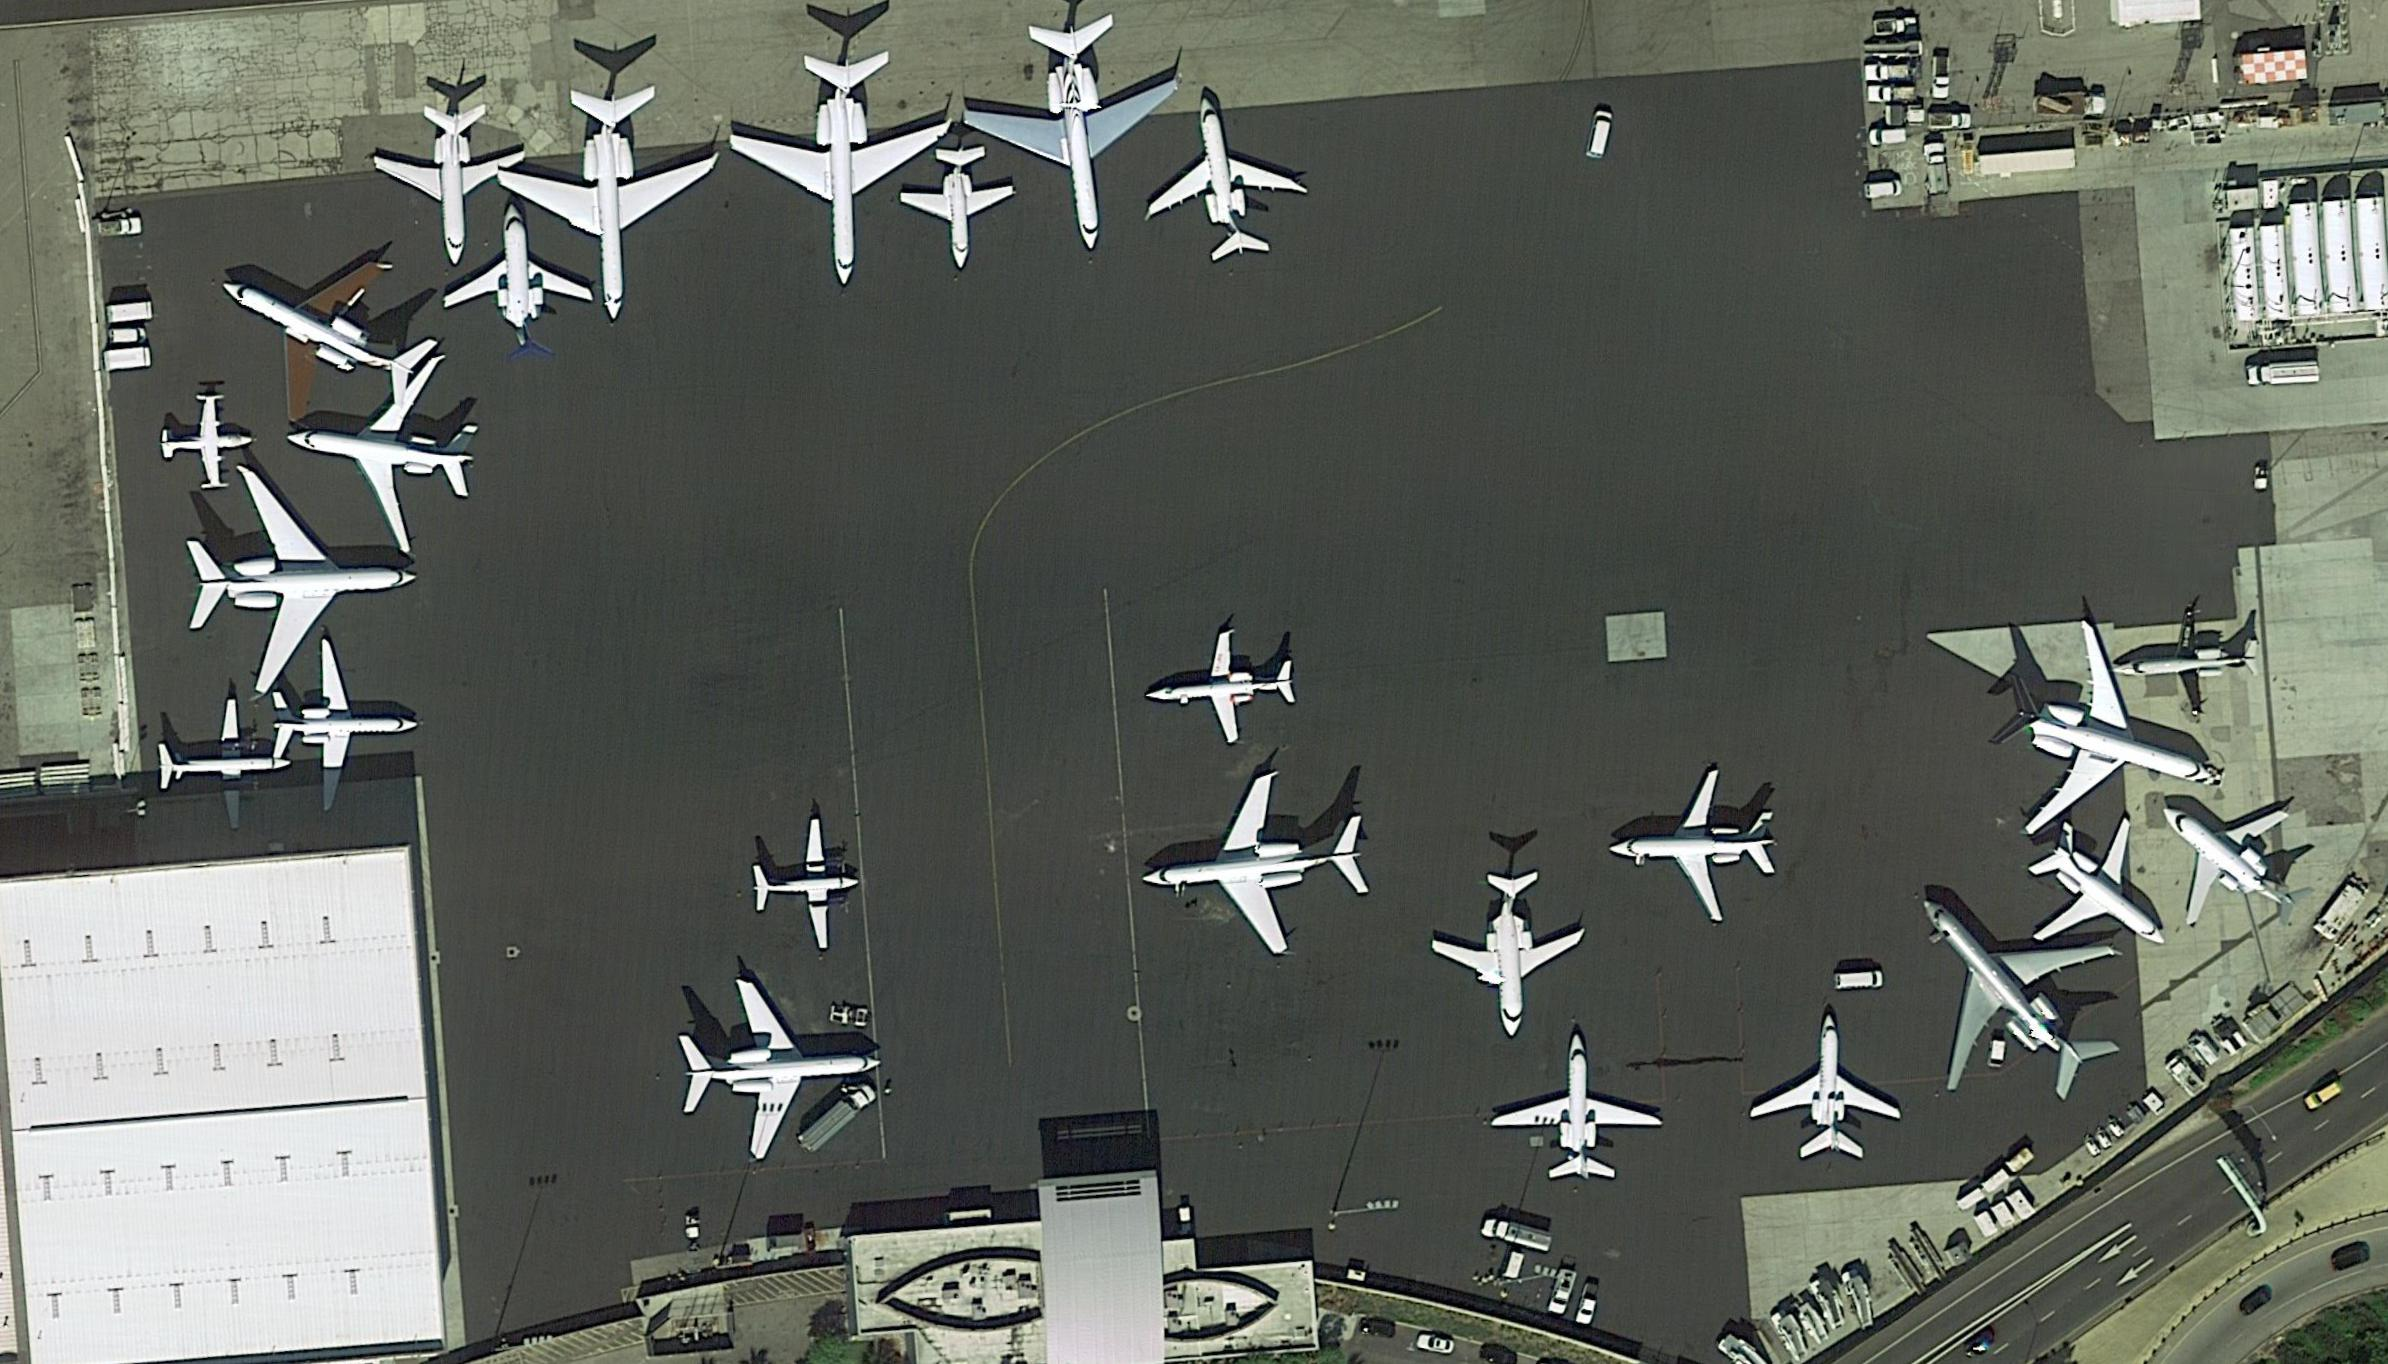plane: (1835, 825, 2167, 1157), (1958, 593, 2263, 890), (243, 302, 523, 607), (940, 2, 1209, 264), (184, 446, 423, 707), (717, 44, 964, 292), (492, 82, 728, 321), (1128, 762, 1379, 971), (1989, 782, 2204, 1003), (2119, 744, 2331, 962), (672, 962, 891, 1171), (1127, 85, 1312, 275), (1419, 866, 1596, 1043), (1484, 1026, 1670, 1190), (1602, 766, 1783, 926), (266, 633, 420, 812), (362, 103, 530, 267), (1747, 1015, 1903, 1162), (440, 200, 592, 333), (1145, 621, 1301, 751), (156, 690, 295, 834), (2106, 598, 2262, 725), (750, 815, 864, 964), (895, 148, 1022, 275), (161, 393, 254, 493)
